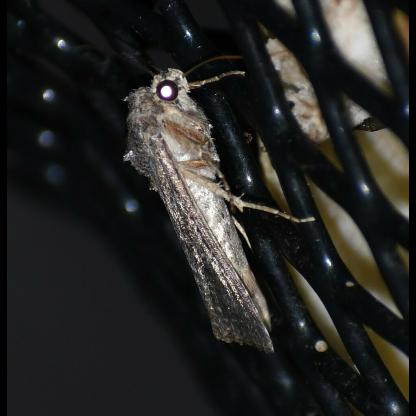Fall Armyworm Moth: (119, 52, 319, 359)
